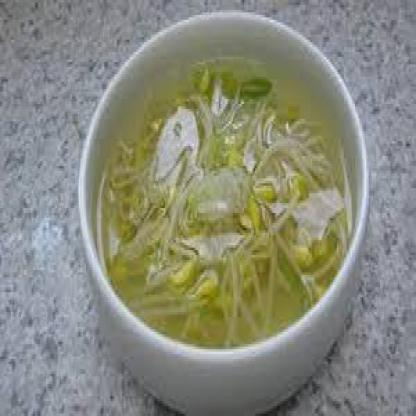bean sprout soup: (96, 47, 354, 357)
